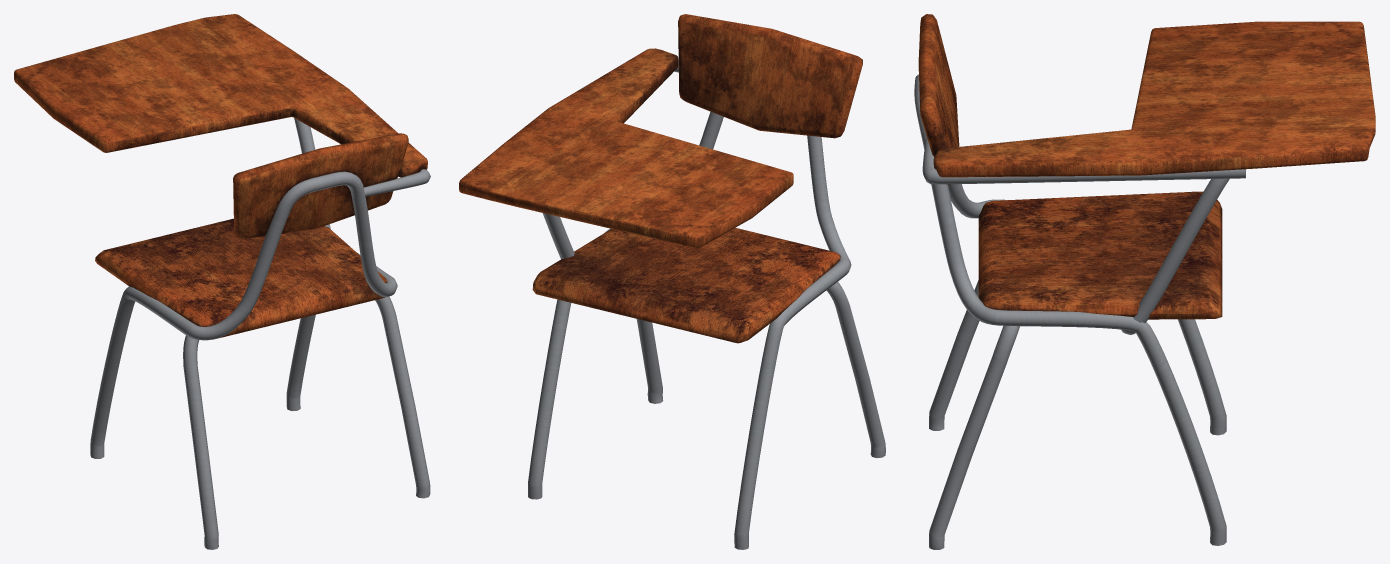
3 views of the same model, side by side, from view 1: azimuth 30°, elevation 25°; view 2: azimuth 150°, elevation 25°; view 3: azimuth 270°, elevation 25° (orthographic). The views are drawn at different scales.
Parts seen in each view (by area): view 1: Cube, Cube.001, ChairLegs, Cube.002, BackLegs, DeskBrace; view 2: Cube, Cube.001, Cube.002, ChairLegs, BackLegs, BraceDesk; view 3: Cube, Cube.001, ChairLegs, BackLegs, Cube.002, BraceDesk, DeskBrace.
Part boxes in pixels (x1=…): Cube: x1=14, y1=14, x2=427, y2=177; Cube.001: x1=95, y1=218, x2=387, y2=338; ChairLegs: x1=90, y1=171, x2=397, y2=458; Cube.002: x1=233, y1=133, x2=408, y2=238; BackLegs: x1=183, y1=296, x2=430, y2=549; DeskBrace: x1=364, y1=169, x2=430, y2=196; Cube: x1=459, y1=48, x2=793, y2=248; Cube.001: x1=532, y1=228, x2=840, y2=343; Cube.002: x1=678, y1=14, x2=862, y2=138; ChairLegs: x1=528, y1=111, x2=851, y2=549; BackLegs: x1=636, y1=282, x2=885, y2=457; BraceDesk: x1=542, y1=213, x2=574, y2=259; Cube: x1=933, y1=21, x2=1375, y2=177; Cube.001: x1=978, y1=191, x2=1222, y2=319; ChairLegs: x1=914, y1=74, x2=1226, y2=545; BackLegs: x1=929, y1=280, x2=1019, y2=549; Cube.002: x1=918, y1=14, x2=959, y2=184; BraceDesk: x1=1121, y1=178, x2=1229, y2=334; DeskBrace: x1=922, y1=138, x2=1245, y2=184.
Bounding box in the file's own units: 79.39 × 116 × 112.
Materials: 2 (2 with a texture image).
